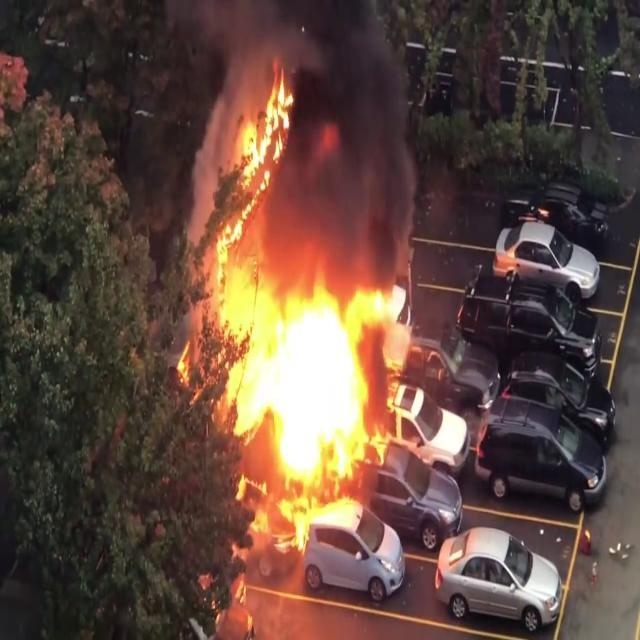Fire: (177, 62, 425, 500)
Smoke: (276, 0, 425, 276)
